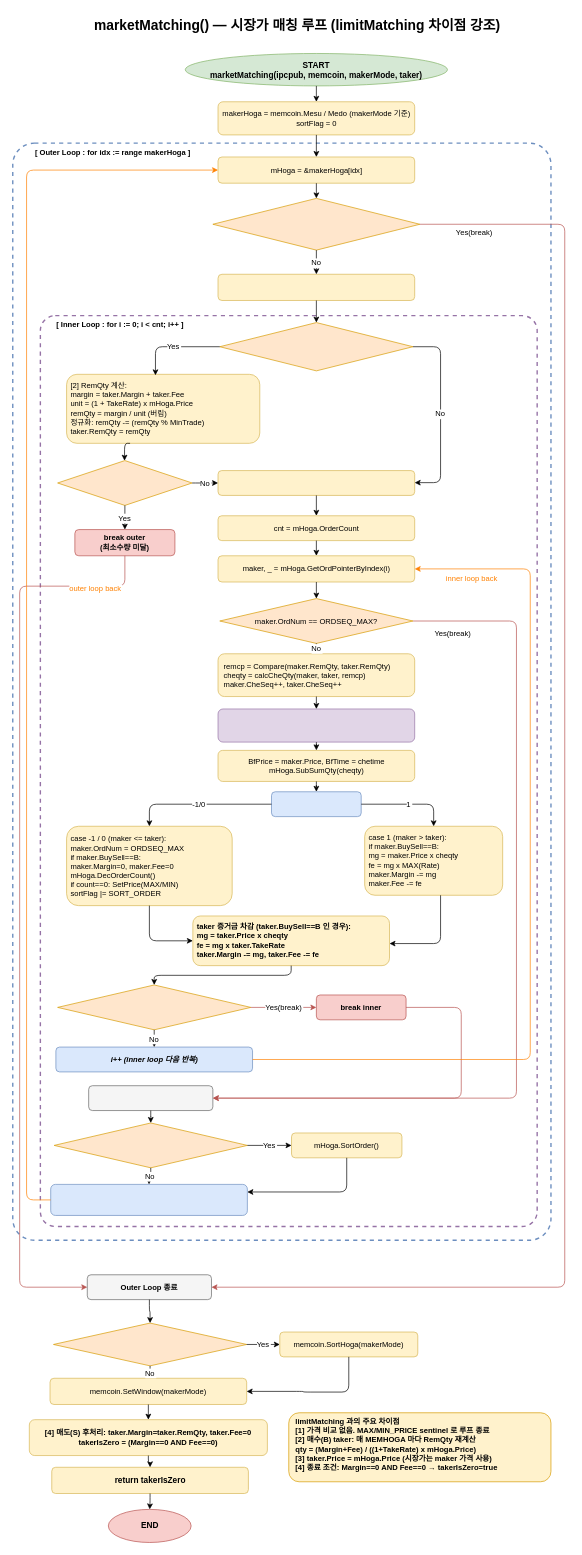
Image size: 582x1555. Some labels were removed from this diagram. The box of each missing label's shape, as (x1, y1, x2, y2) in pixels:
[1] mHoga.Price == MAX_PRICE OR MIN_PRICE? (limitMatching 과 차이: 가격 비교 아님): (212, 198, 420, 250)
[2] taker.BuySell == B? (매수 시장가: RemQty 재계산): (219, 322, 413, 371)
[3] taker.Price = mHoga.Price (시장가: maker 가격 사용): (217, 470, 415, 495)
Inner Loop 종료: (88, 1085, 213, 1111)
mHoga.InWindow(): (217, 274, 415, 300)
PUB -> InnerProxy topic: IPCCHE [ pairkey | chetime | cheqty | maker* | taker* ]: (217, 708, 415, 742)
remcp != -1? (매칭 종료): (57, 984, 251, 1030)
SORT_ORDER && count > 0?: (53, 1122, 247, 1168)
sortFlag & SORT_HOGA?: (53, 1322, 247, 1366)
sortFlag &^= SORT_ORDER idx++ (outer loop 다음 반복): (50, 1184, 247, 1215)
switch remcp:: (271, 791, 361, 817)
taker.RemQty == 0? (최소수량 미달): (57, 460, 192, 505)
